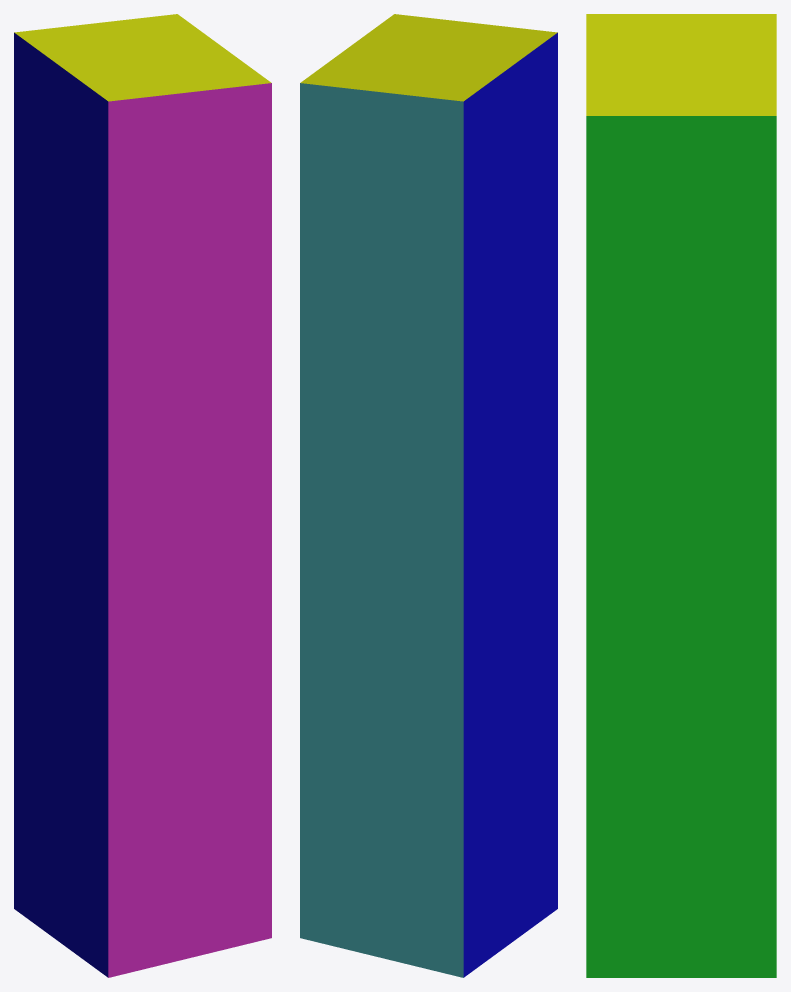
Rendered from CubeRoof_25.fbx.
3 views of the same model, side by side, from view 1: azimuth 30°, elevation 25°; view 2: azimuth 150°, elevation 25°; view 3: azimuth 270°, elevation 25° (orthographic).
Visible parts, largest first — view 1: Cube; view 2: Cube; view 3: Cube.
Part boxes in pixels (bbox=[...]): Cube: bbox=[14, 14, 271, 977]; Cube: bbox=[300, 14, 557, 977]; Cube: bbox=[586, 14, 776, 977].
Size of the model in its own units: 200 by 1025 by 200.
